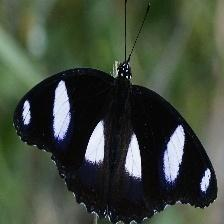butterfly: (13, 62, 217, 224)
